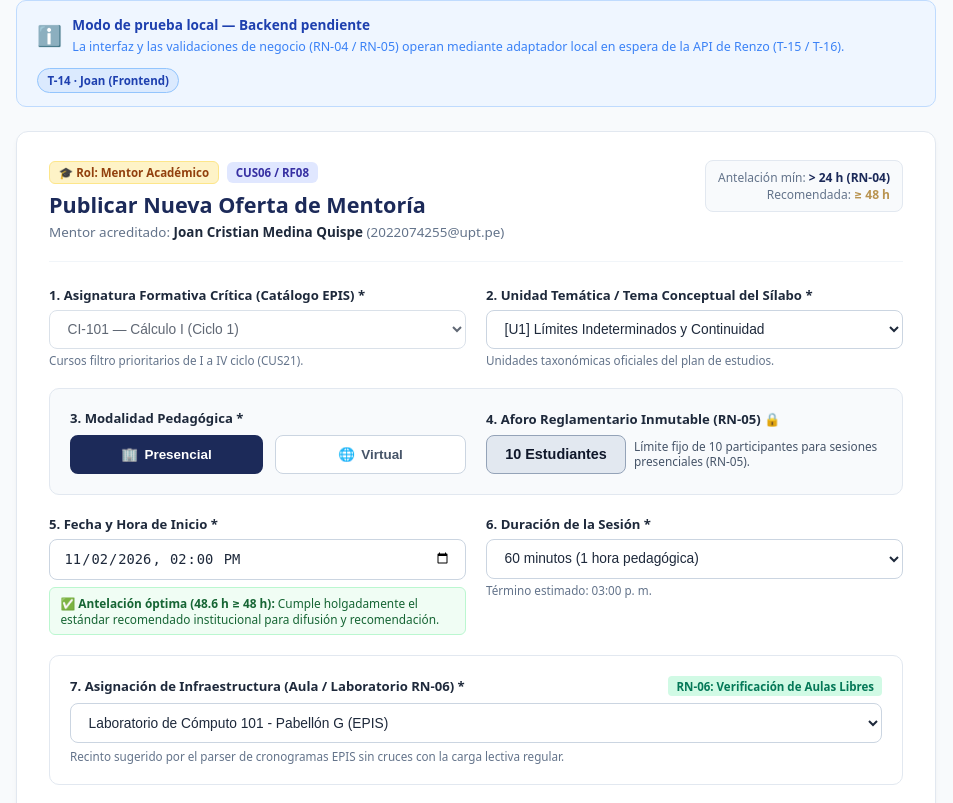
Test: OfferPublishView Component (T-14 / RF08 / CUS06) › CUS06-U02: Control estricto de aforo automático según modalidad (RN-05) › 3. Al cambiar a modalidad Virtual, actualiza reactivamente el aforo a 20 estudiantes de forma inmutable
Expected: the field labelled "4. Aforo Reglamentario Inmutable (RN-05) 🔒" holds "10 Estudiantes", [486, 435, 626, 474]
Click the button "🌐 Virtual".
click(370, 454)  # box [275, 434, 466, 474]
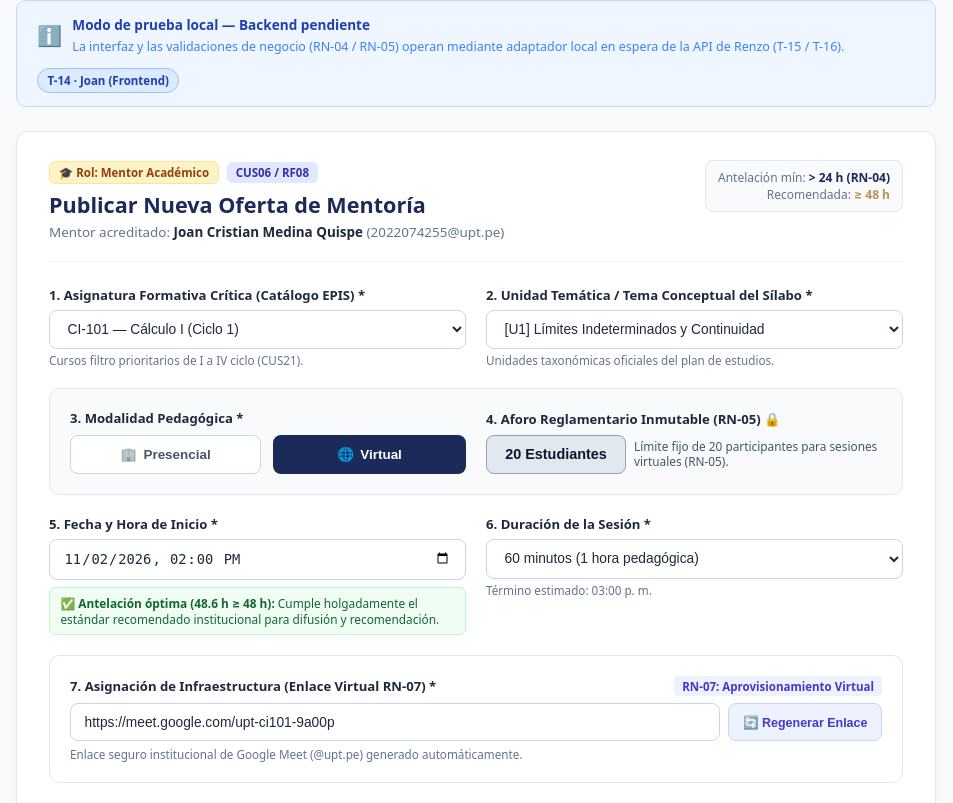
Expected: the field labelled "4. Aforo Reglamentario Inmutable (RN-05) 🔒" holds "20 Estudiantes", [486, 435, 626, 474]
Expected: the text "Límite fijo de 20 participantes para sesiones virtuales (RN-05)" is shown, [634, 438, 877, 469]
Expected: the text "RN-07: Aprovisionamiento Virtual" is shown, [674, 676, 882, 696]
